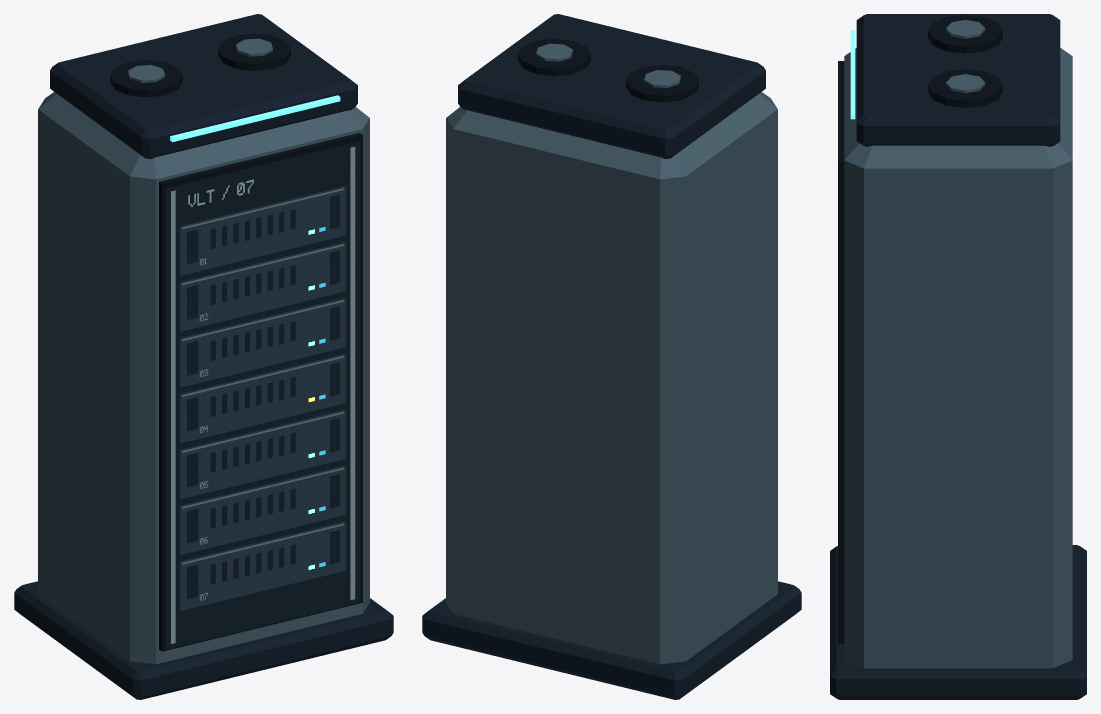
File: server-rack.gltf
3 renders of one model, left to right at view 1: azimuth 30°, elevation 25°; view 2: azimuth 150°, elevation 25°; view 3: azimuth 270°, elevation 25°, orthographic. The views are drawn at different scales.
Visible parts, largest first — view 1: rack; view 2: rack; view 3: rack.
Boxes of the visible parts, x1,y1,x2,y2 form: rack: (14,14,393,699); rack: (422,14,801,699); rack: (830,14,1086,699).
Bounding box in the file's own units: 0.87 × 1.8 × 0.72.
Materials: 3 (1 with a texture image).
